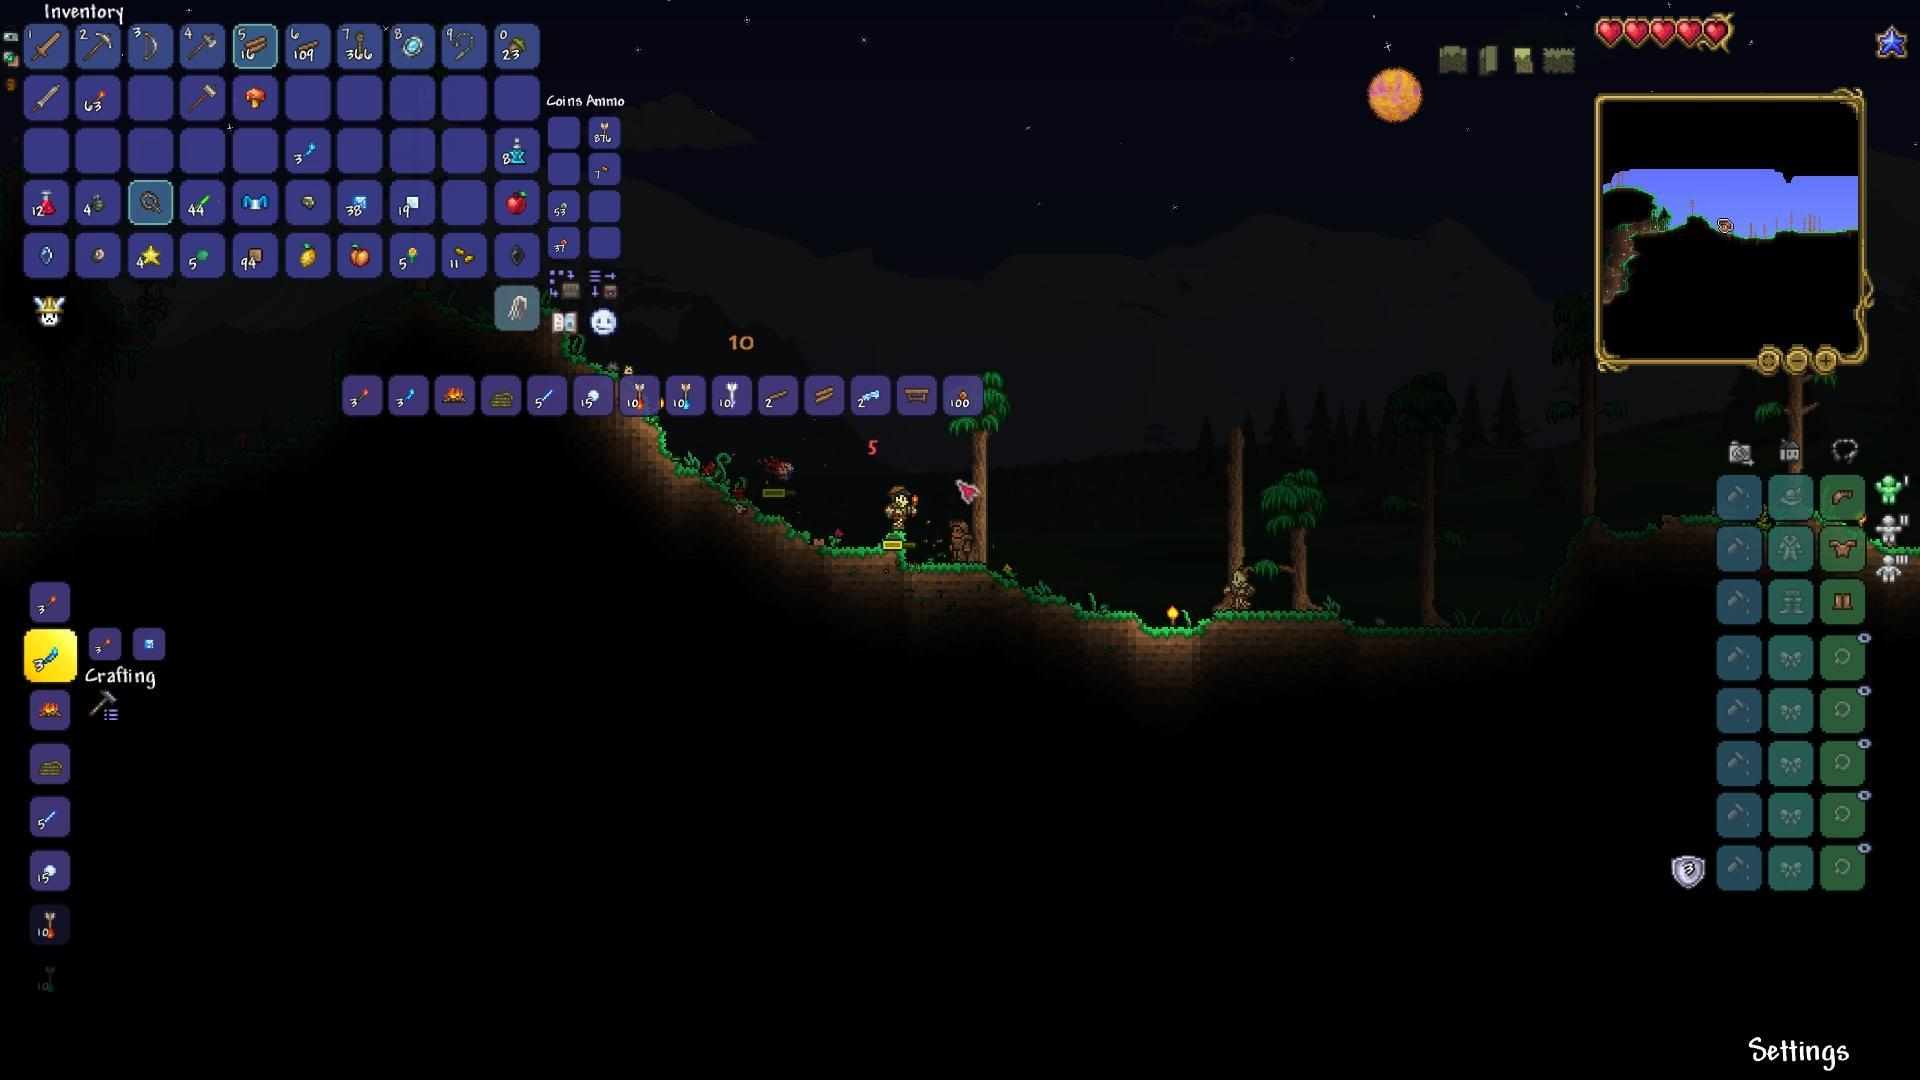eye: (762, 451, 800, 481)
grenade: (88, 189, 109, 211)
potion: (36, 183, 61, 218)
recallP: (502, 135, 530, 170)
star: (140, 243, 161, 270)
